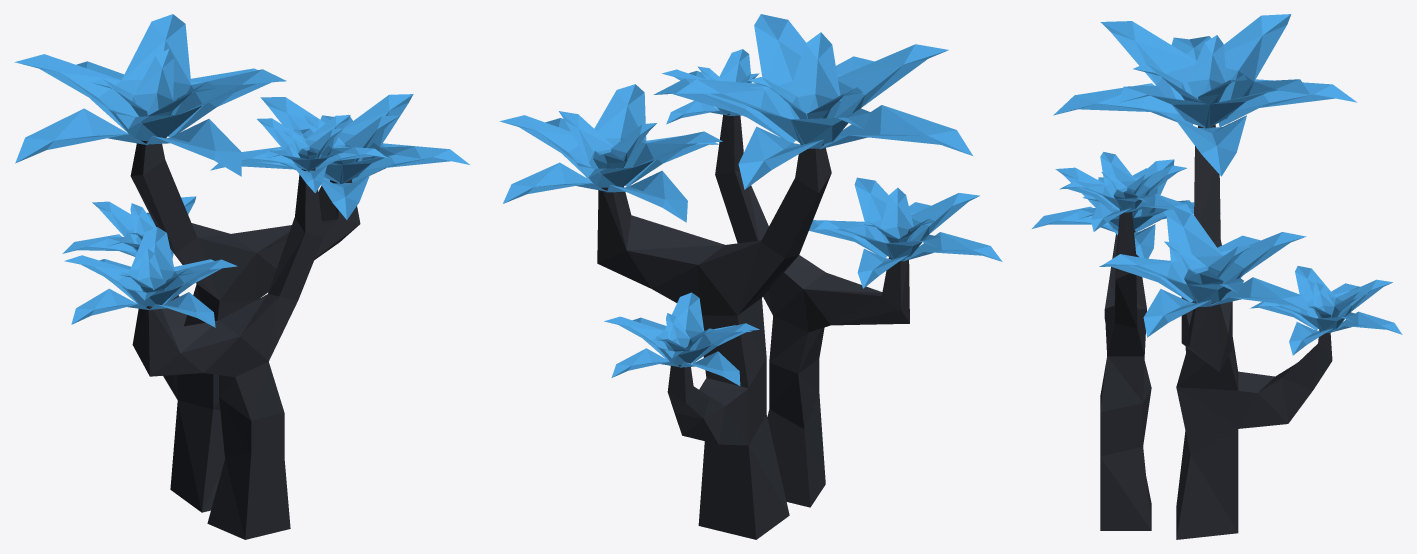
File: SM_CrystalBloom_Tall.fbx
The picture shows the model from 3 angles, left to right: view 1: azimuth 30°, elevation 25°; view 2: azimuth 150°, elevation 25°; view 3: azimuth 270°, elevation 25°; orthographic projection. The views are drawn at different scales.
Parts seen in each view (by area): view 1: SM_CrystalBloom_Tall; view 2: SM_CrystalBloom_Tall; view 3: SM_CrystalBloom_Tall.
Boxes of the visible parts, x1,y1,x2,y2 form: SM_CrystalBloom_Tall: [14, 14, 469, 539]; SM_CrystalBloom_Tall: [499, 14, 1002, 539]; SM_CrystalBloom_Tall: [1032, 14, 1402, 539].
Size of the model in its own units: 44.15 by 42.99 by 33.3.
